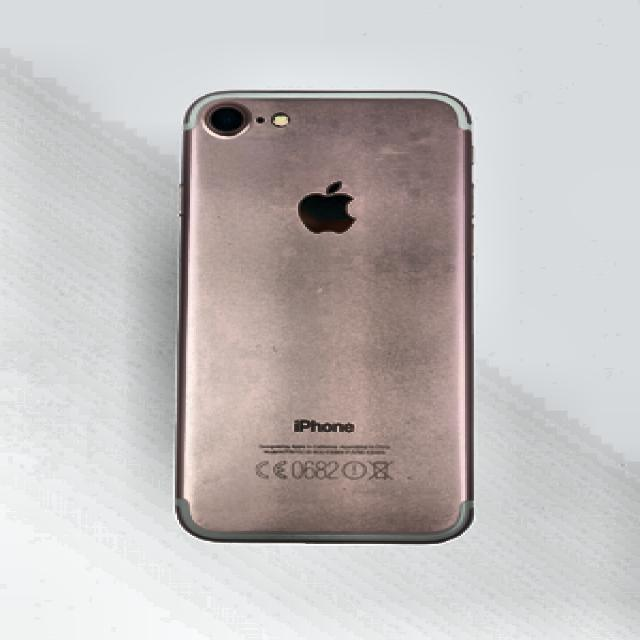Phone: (176, 88, 472, 542)
